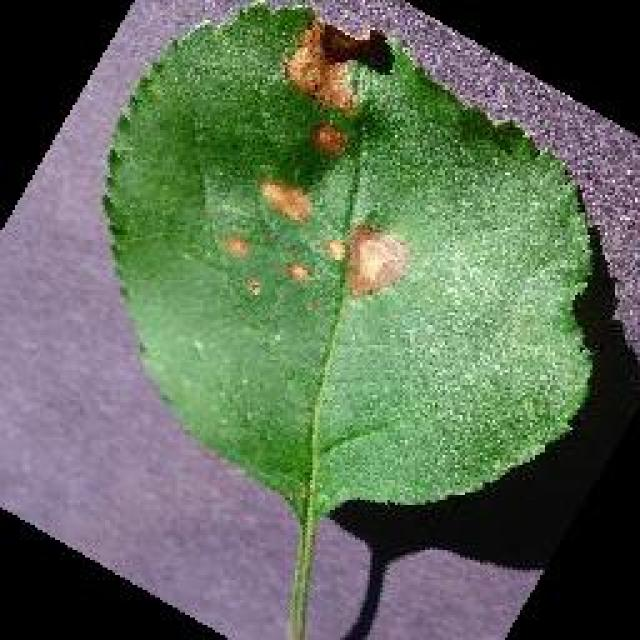Black_rot: (98, 0, 598, 638)
